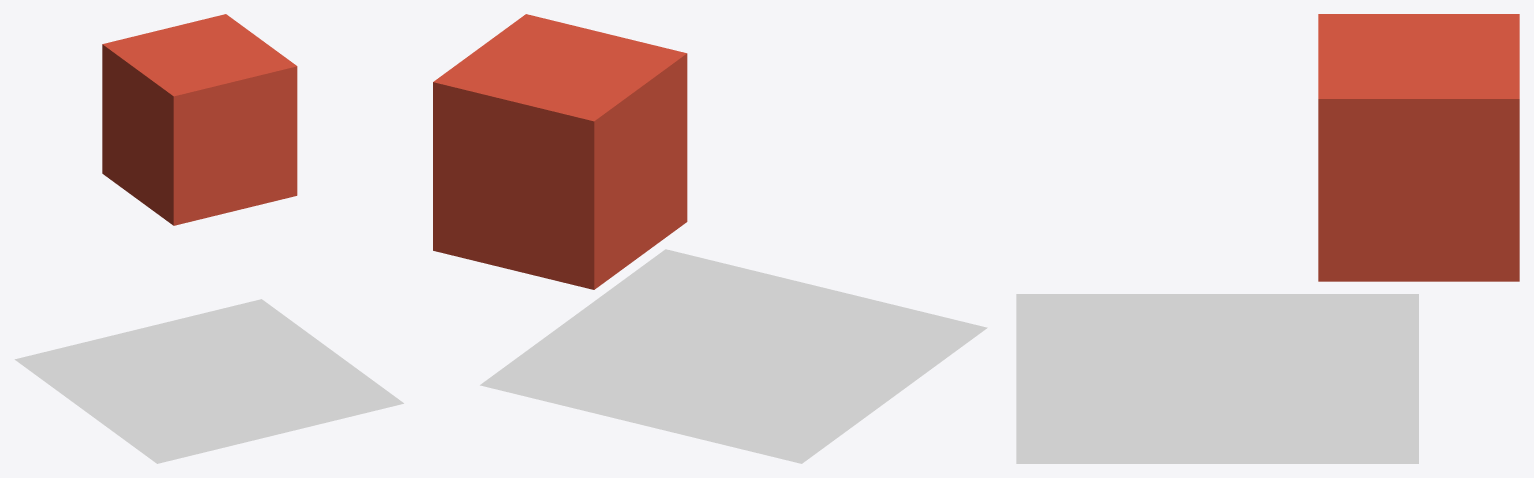
The picture shows the model from 3 angles, left to right: view 1: azimuth 30°, elevation 25°; view 2: azimuth 150°, elevation 25°; view 3: azimuth 270°, elevation 25°; orthographic projection. The views are drawn at different scales.
Parts seen in each view (by area): view 1: Floor, Box; view 2: Floor, Box; view 3: Floor, Box.
Part boxes in pixels (bbox=[...]): Floor: bbox=[14, 299, 403, 463]; Box: bbox=[102, 14, 297, 225]; Floor: bbox=[480, 249, 987, 463]; Box: bbox=[433, 14, 687, 289]; Floor: bbox=[1016, 294, 1418, 463]; Box: bbox=[1318, 14, 1519, 281].
Size of the model in its own units: 400 by 400 by 500.
